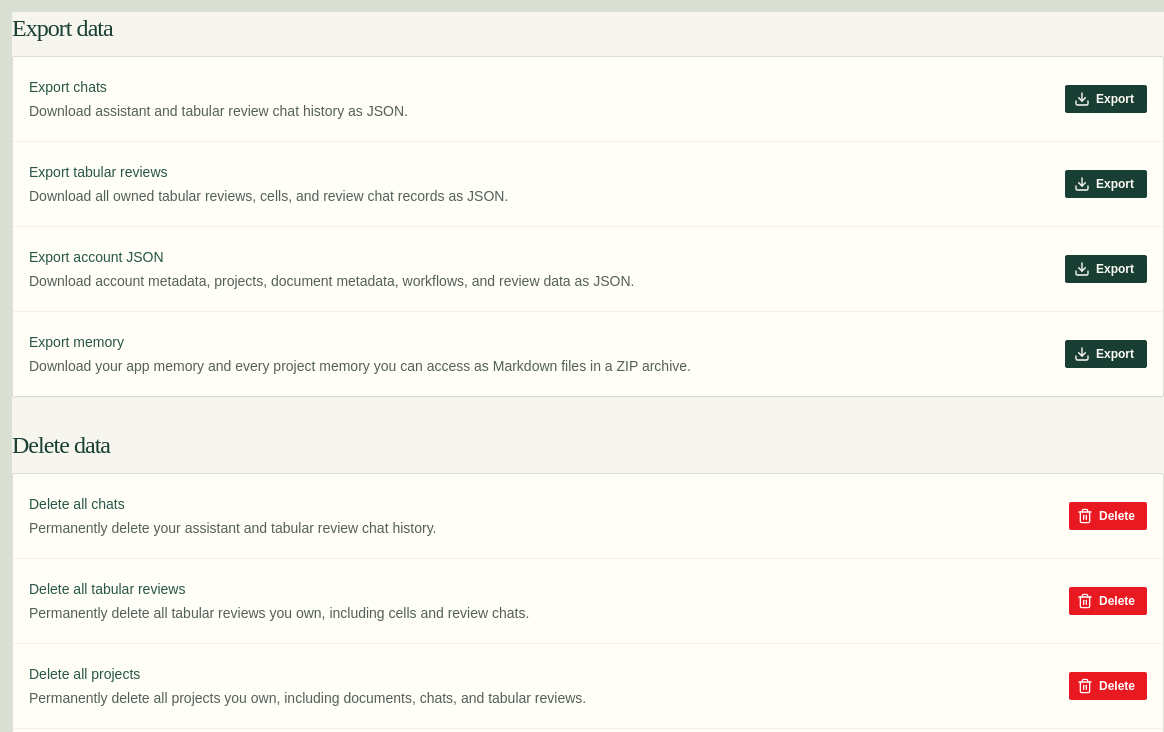
Test case: privacy-data async exports › surfaces a failed build instead of downloading anything
The width and height of the screenshot is (1164, 732).
Click the button named "Export" in the row of "Export chats": (1106, 99) top-left (1065, 85), bottom-right (1147, 113)
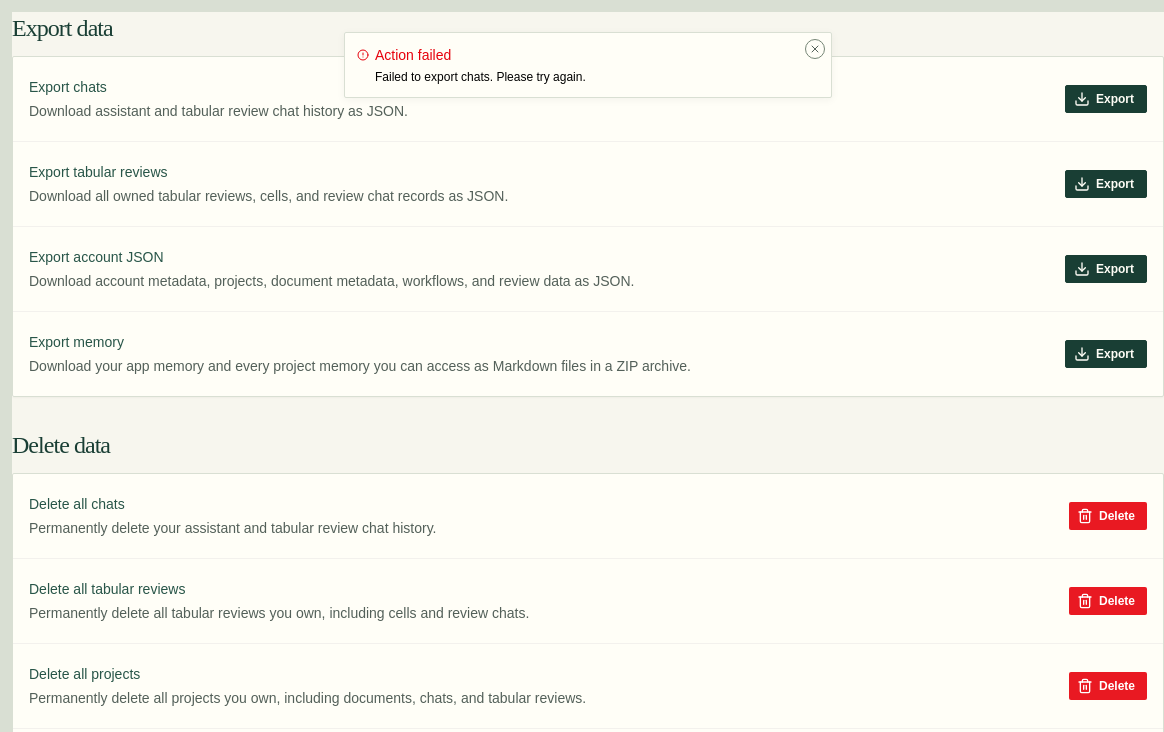
Result: the text "Action failed" is shown at top-left (357, 47), bottom-right (451, 63)
Result: the text "Failed to export chats. Please try again." is shown at top-left (375, 70), bottom-right (586, 84)
